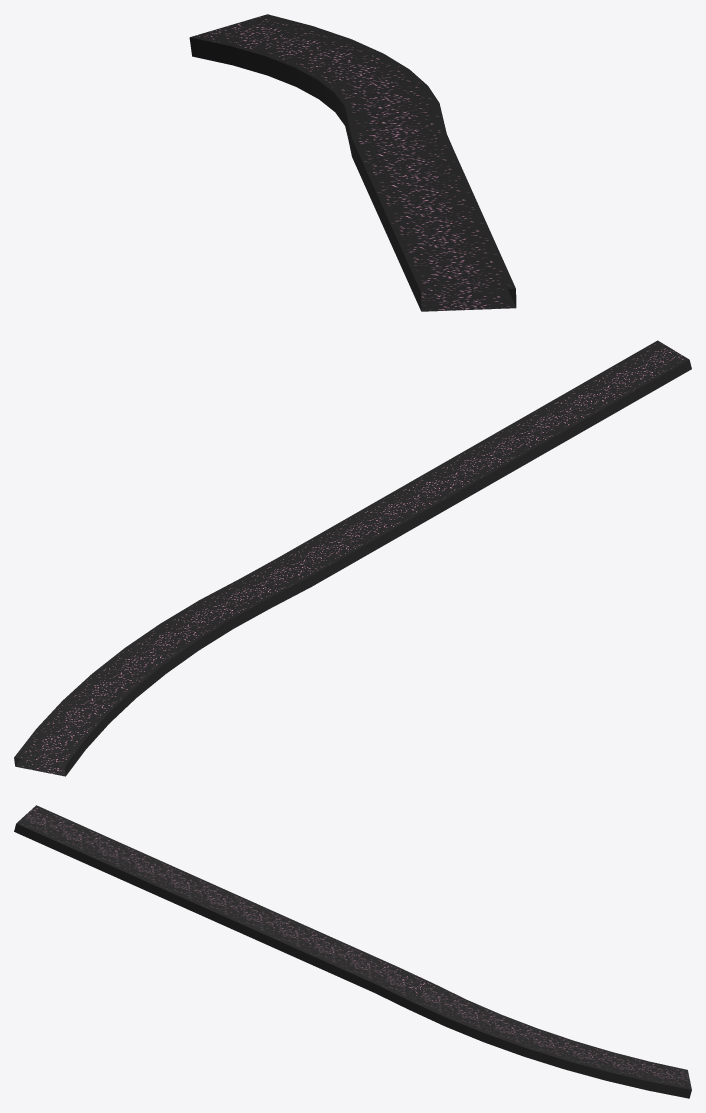
Rendered from OBJ_CourseSpring_testfloor4_5.fbx.
3 views of the same model, one above another, from view 1: azimuth 30°, elevation 25°; view 2: azimuth 150°, elevation 25°; view 3: azimuth 270°, elevation 25° (orthographic). The views are drawn at different scales.
Parts seen in each view (by area): view 1: polySurface14; view 2: polySurface14; view 3: polySurface14.
Part boxes in pixels (left/top/right/bottom): polySurface14: left=189, top=14, right=516, bottom=311; polySurface14: left=14, top=340, right=691, bottom=776; polySurface14: left=14, top=805, right=691, bottom=1098.
Size of the model in its own units: 29.47 by 18.97 by 68.18.
1 material, 1 textured.
